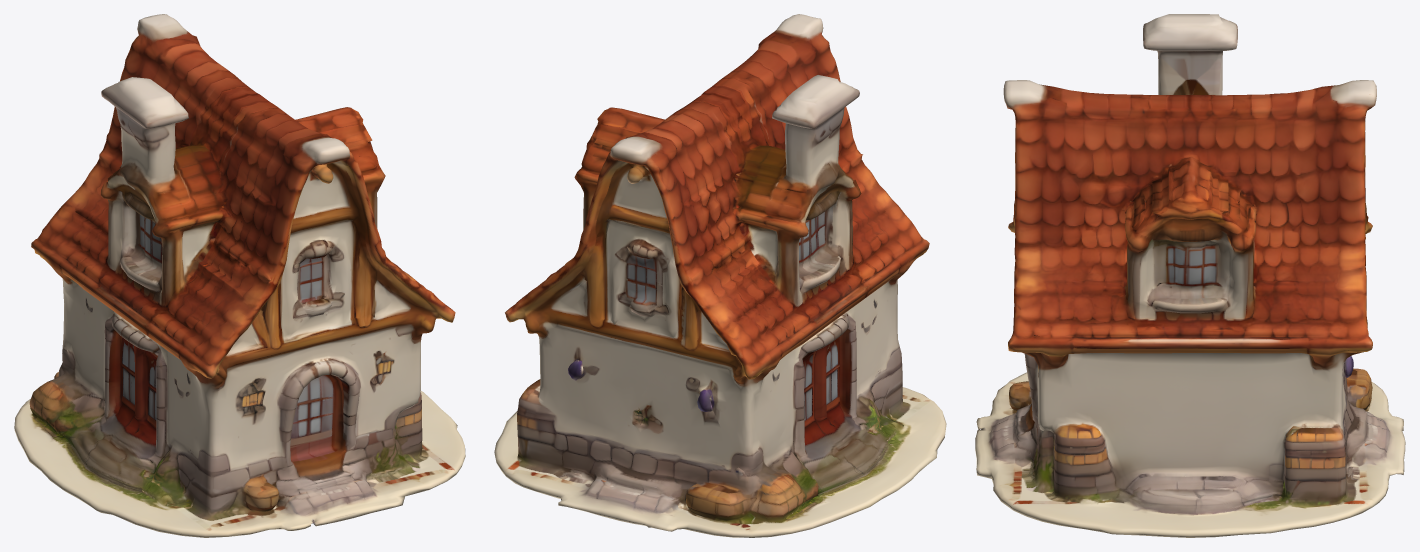
File: base_basic_pbr.fbx
The picture shows the model from 3 angles, left to right: view 1: azimuth 30°, elevation 25°; view 2: azimuth 150°, elevation 25°; view 3: azimuth 270°, elevation 25°; orthographic projection.
Parts seen in each view (by area): view 1: model; view 2: model; view 3: model.
Boxes of the visible parts, box(x1,y1,x2,y2) form: model: box(14, 14, 465, 537); model: box(494, 14, 946, 537); model: box(975, 14, 1405, 537).
Bounding box in the file's own units: 189 × 185 × 189.
1 material, 1 textured.
